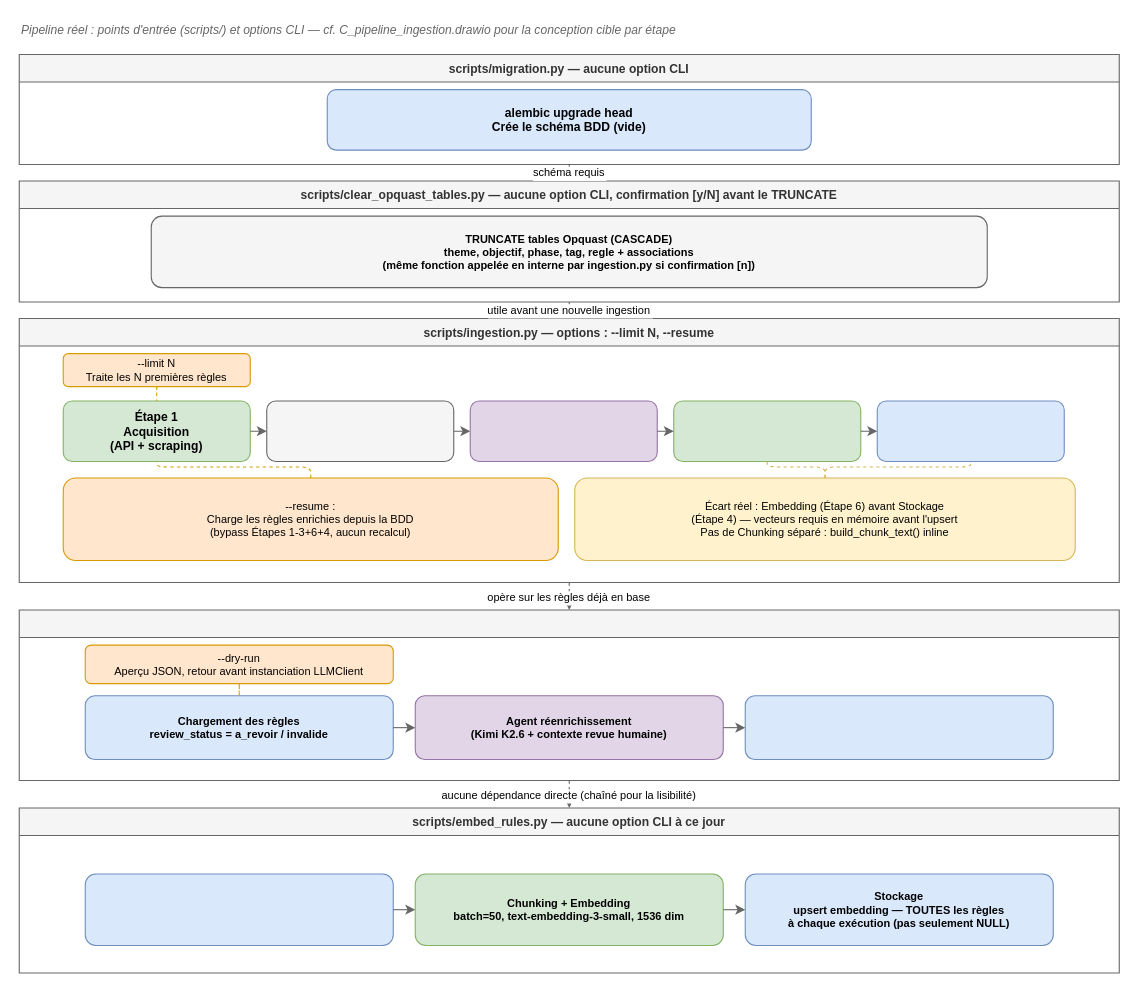
Some shapes in this 1139 by 992 pixel diagram are drawn without their labels. Each missing label, with the box of its shape:
Chargement des 245 règles (load_enriched_rules_from_db): (84, 873, 393, 945)
scripts/enrich_again.py — option : --dry-run: (18, 609, 1119, 780)
Stockage ciblé (commit/règle, review_status effacé): (744, 695, 1053, 760)
Étape 2 Agrégation: (266, 400, 454, 461)
Étape 3 Enrichissement (Kimi K2.6): (469, 400, 657, 461)
Étape 4 Stockage (upsert + embedding): (876, 400, 1064, 461)
Étape 6 Embedding (chunking inline): (673, 400, 861, 461)
